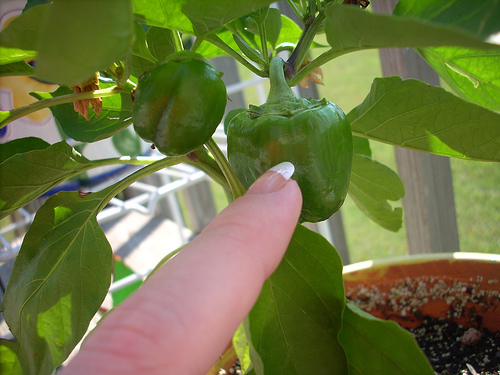capsicum: (224, 55, 354, 225), (130, 58, 227, 157)
